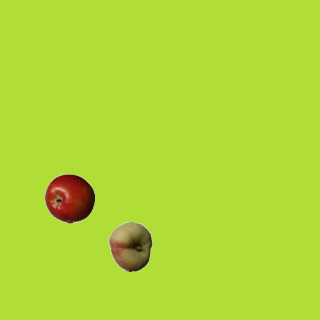Apple Braeburn: (44, 173, 94, 223)
Peach Flat: (105, 221, 155, 271)
